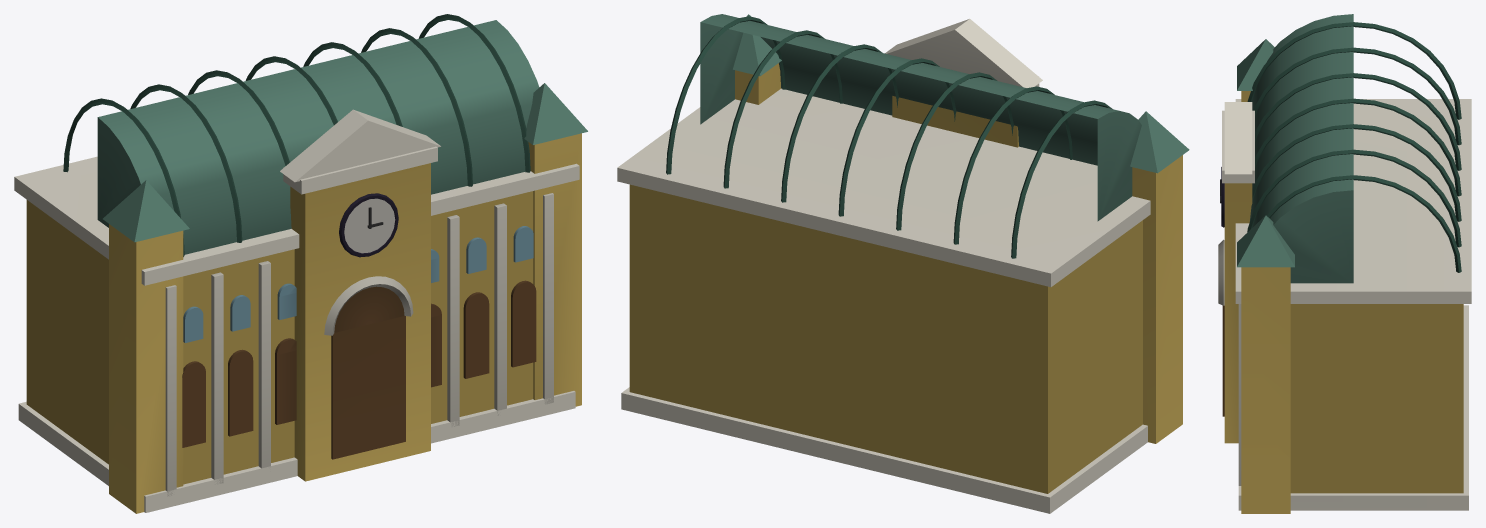
Rendered from lm-postoffice.glb.
3 renders of one model, left to right at view 1: azimuth 30°, elevation 25°; view 2: azimuth 150°, elevation 25°; view 3: azimuth 270°, elevation 25°, orthographic. The views are drawn at different scales.
Bounding box in the file's own units: 8.66 × 6.37 × 4.62.
